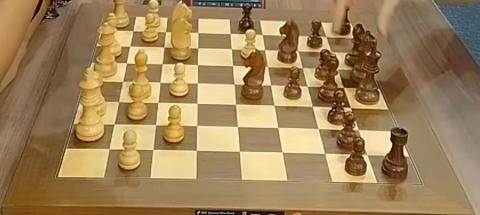xcorner: (322, 33, 329, 40), (290, 32, 297, 39), (258, 31, 265, 38), (161, 27, 168, 34), (128, 26, 135, 33), (294, 47, 301, 54), (261, 46, 268, 53), (227, 45, 234, 52), (193, 44, 200, 51), (159, 43, 166, 50), (125, 42, 132, 49), (193, 61, 200, 68), (158, 60, 165, 67), (122, 59, 129, 66), (340, 84, 347, 91), (303, 83, 310, 90), (267, 82, 274, 89), (230, 81, 237, 88), (156, 78, 163, 85), (119, 77, 126, 84), (347, 104, 354, 111), (270, 102, 277, 109), (232, 101, 239, 108), (193, 100, 200, 107), (154, 99, 161, 106), (354, 127, 361, 134), (314, 126, 321, 133), (193, 122, 200, 129), (152, 121, 159, 128), (111, 120, 118, 127), (363, 152, 370, 159), (278, 149, 285, 156), (236, 148, 243, 155), (193, 147, 200, 154), (106, 145, 113, 152), (226, 30, 233, 36), (193, 29, 200, 35), (333, 66, 340, 72), (299, 64, 305, 71), (264, 63, 270, 70), (229, 62, 235, 69), (193, 80, 200, 86), (309, 103, 315, 110), (115, 98, 122, 104), (274, 125, 281, 131), (234, 123, 240, 130), (321, 151, 328, 157), (150, 146, 156, 153), (328, 49, 334, 55)
